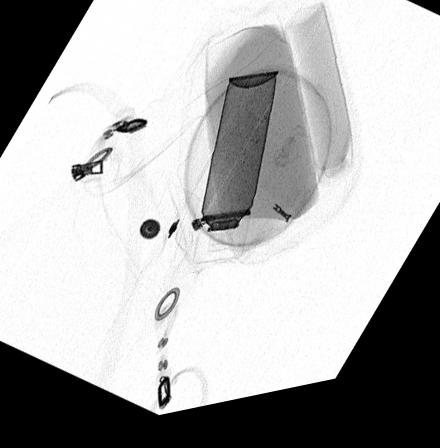Sprayer: (191, 82, 277, 271)
